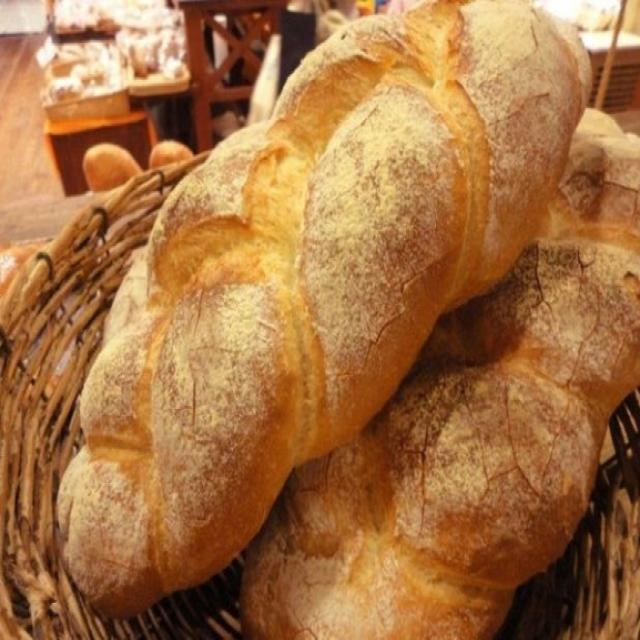面包点心: (3, 5, 631, 634)
